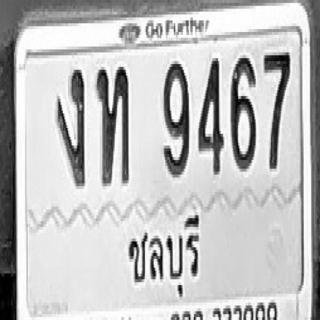A07: (56, 67, 85, 186)
A23: (96, 64, 129, 183)
N04: (198, 55, 223, 175)
N06: (231, 55, 256, 169)
N07: (263, 49, 290, 169)
N09: (162, 60, 189, 176)
P13: (124, 202, 208, 307)
